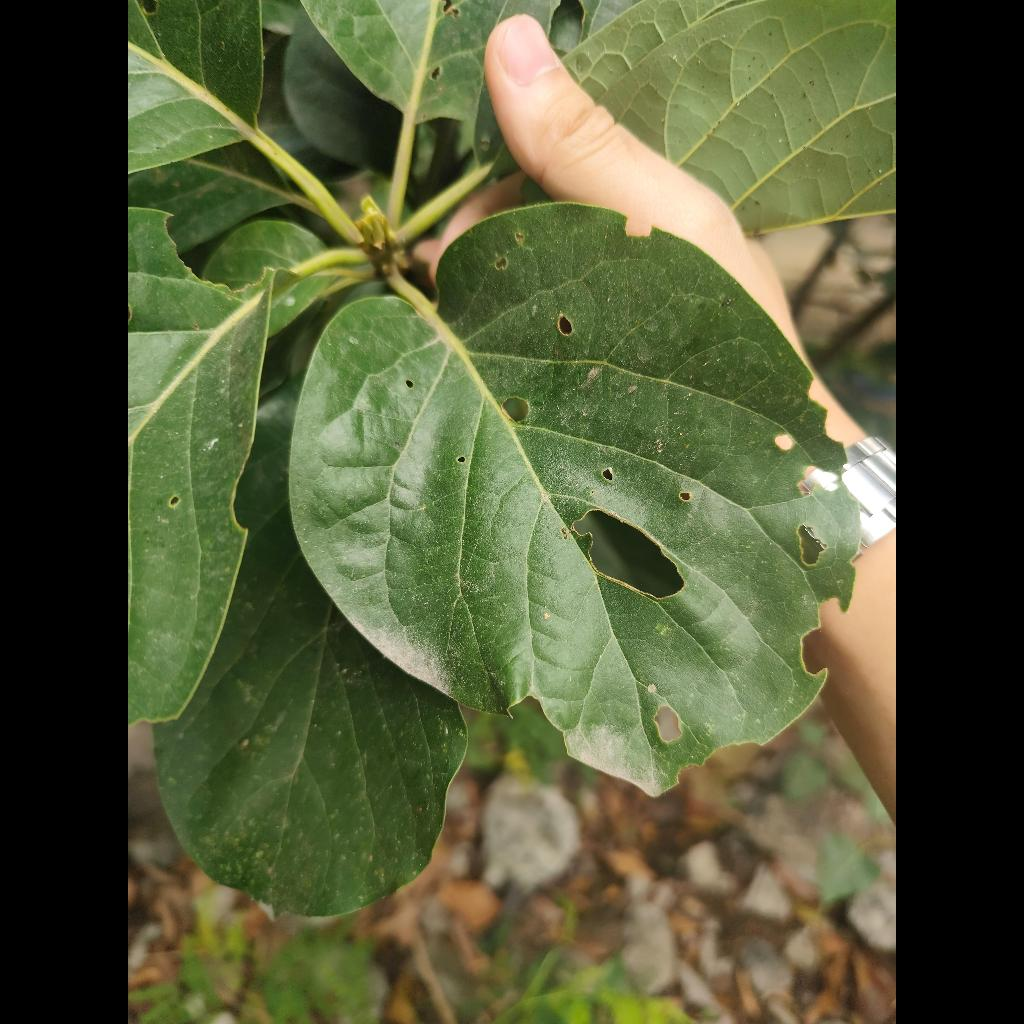Pest Infested: (292, 203, 857, 784)
